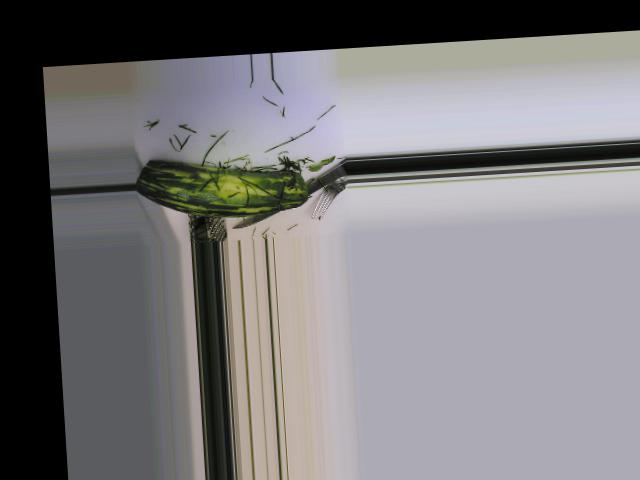cucumber: (135, 149, 310, 222)
